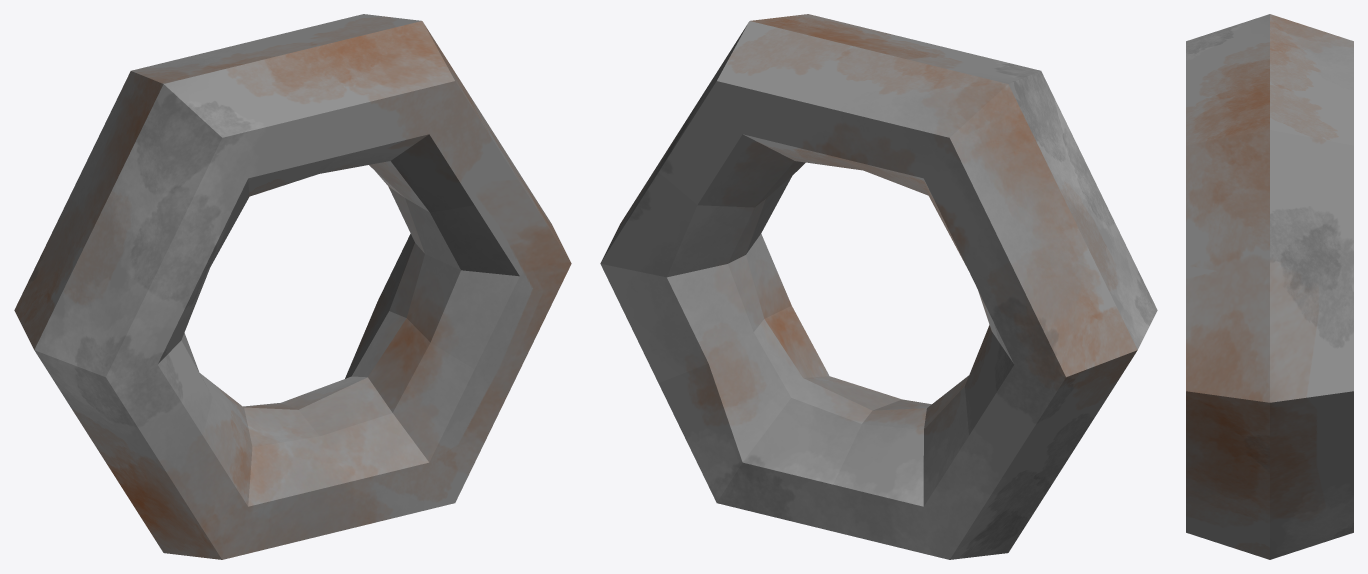
File: Mutter_Collectible.fbx
3 views of the same model, side by side, from view 1: azimuth 30°, elevation 25°; view 2: azimuth 150°, elevation 25°; view 3: azimuth 270°, elevation 25° (orthographic). The views are drawn at different scales.
Parts seen in each view (by area): view 1: Torus; view 2: Torus; view 3: Torus.
Boxes of the visible parts, x1,y1,x2,y2 form: Torus: [14, 14, 571, 559]; Torus: [600, 14, 1157, 559]; Torus: [1186, 14, 1353, 559].
Bounding box in the file's own units: 49.98 × 43.29 × 15.32.
